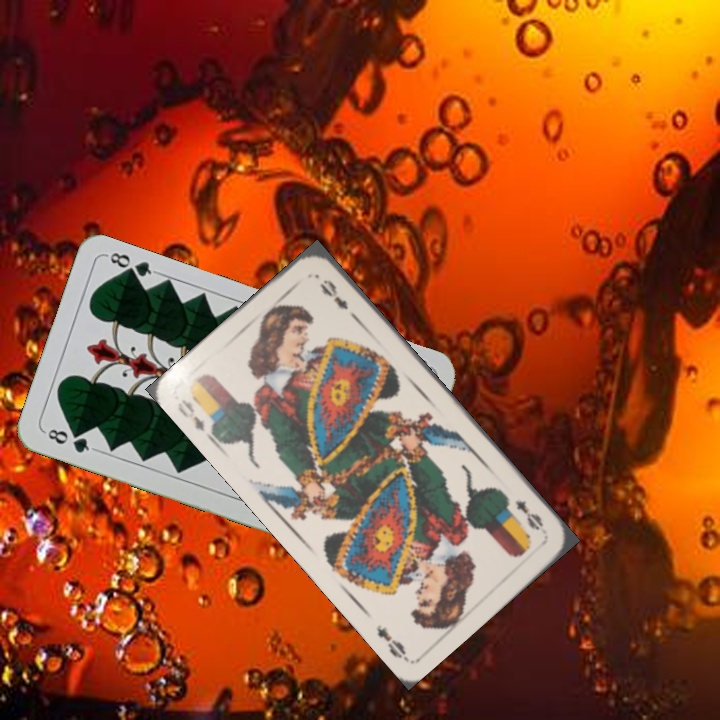EO: (173, 392, 218, 443), (510, 496, 547, 533)
G8: (40, 424, 98, 456)
